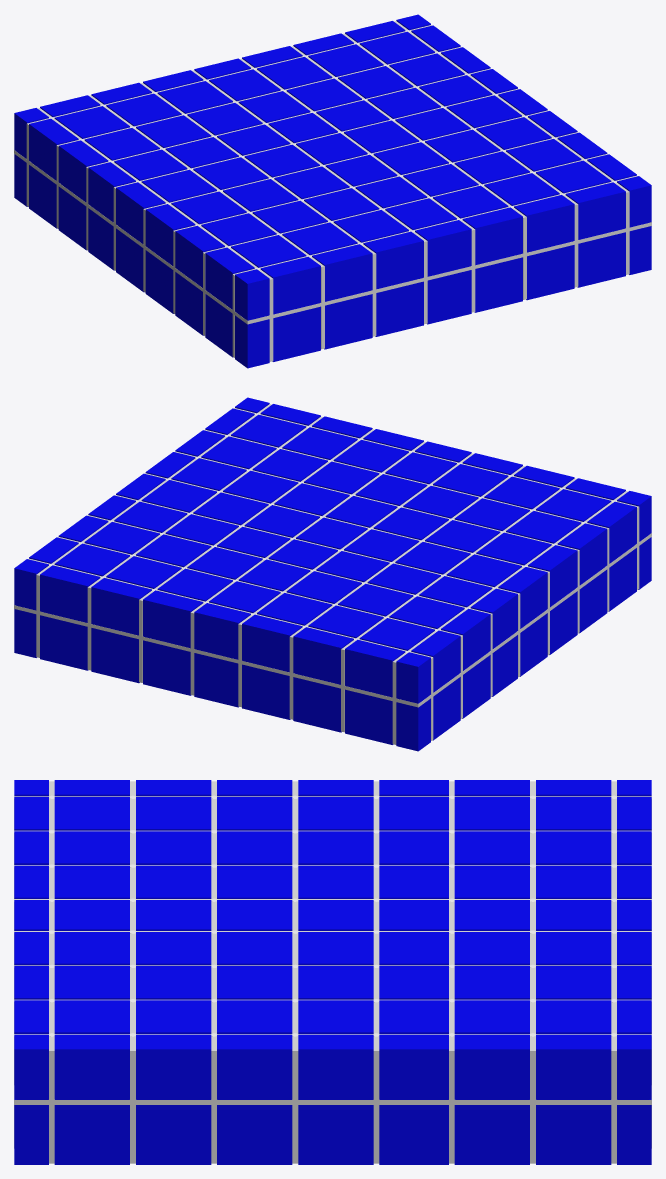
File: Floor1x1Merged.fbx
3 views of the same model, one above another, from view 1: azimuth 30°, elevation 25°; view 2: azimuth 150°, elevation 25°; view 3: azimuth 270°, elevation 25° (orthographic). The views are drawn at different scales.
Parts seen in each view (by area): view 1: Floor1x1_Combined; view 2: Floor1x1_Combined; view 3: Floor1x1_Combined.
Part boxes in pixels (x1=…): Floor1x1_Combined: x1=14, y1=14, x2=651, y2=368; Floor1x1_Combined: x1=14, y1=397, x2=651, y2=751; Floor1x1_Combined: x1=14, y1=780, x2=651, y2=1164.
Bounding box in the file's own units: 500 × 100 × 500.
